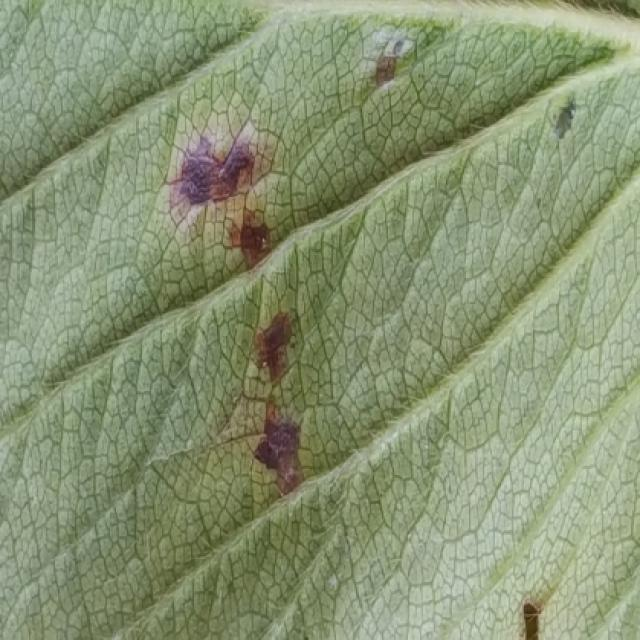Angular Leafspot: (152, 24, 596, 501)
